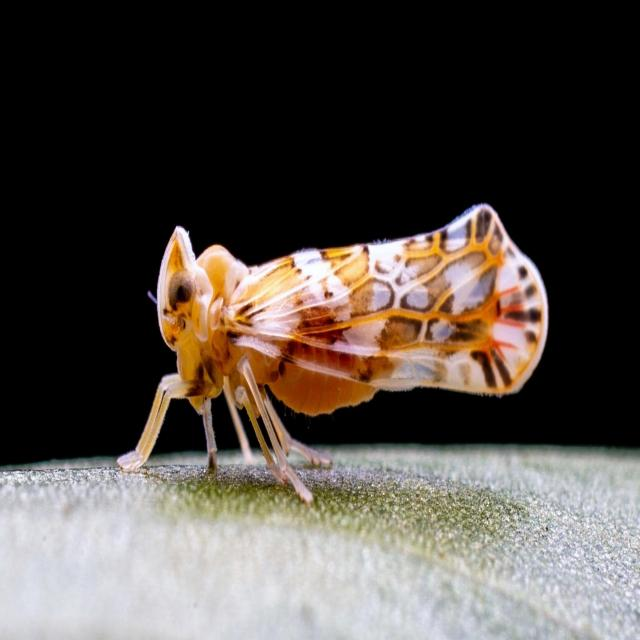Yechan: (109, 190, 562, 513)
